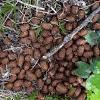Elk: (10, 25, 88, 91)
